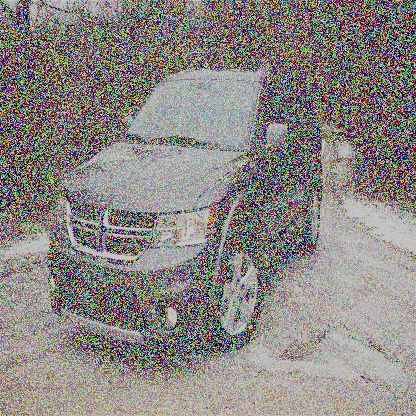Vehicle: (49, 66, 326, 350)
